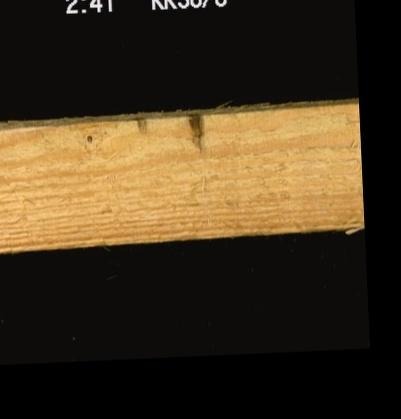small_knot: (81, 126, 97, 145)
